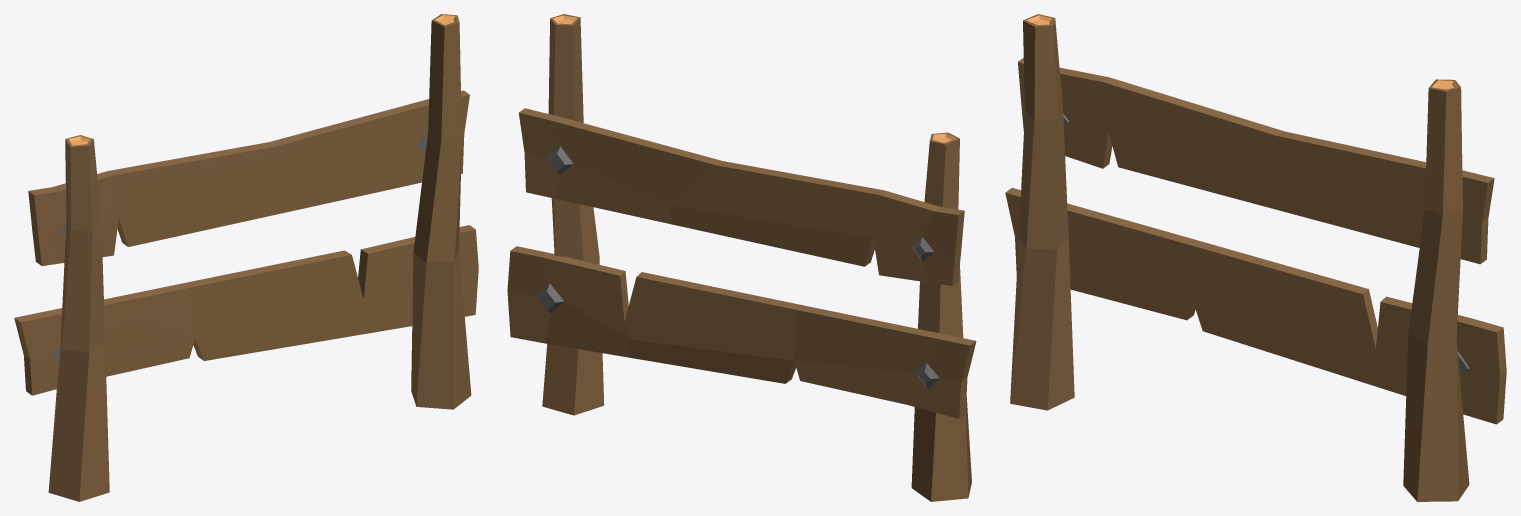
Rendered from barriere_1.fbx.
3 views of the same model, side by side, from view 1: azimuth 30°, elevation 25°; view 2: azimuth 150°, elevation 25°; view 3: azimuth 330°, elevation 25° (orthographic). The views are drawn at different scales.
Visible parts, largest first — view 1: barriere_1.001; view 2: barriere_1.001; view 3: barriere_1.001.
Boxes of the visible parts, x1,y1,x2,y2 form: barriere_1.001: [14, 14, 478, 501]; barriere_1.001: [507, 14, 976, 501]; barriere_1.001: [1005, 14, 1506, 501].
Size of the model in its own units: 482 by 378 by 65.48.
